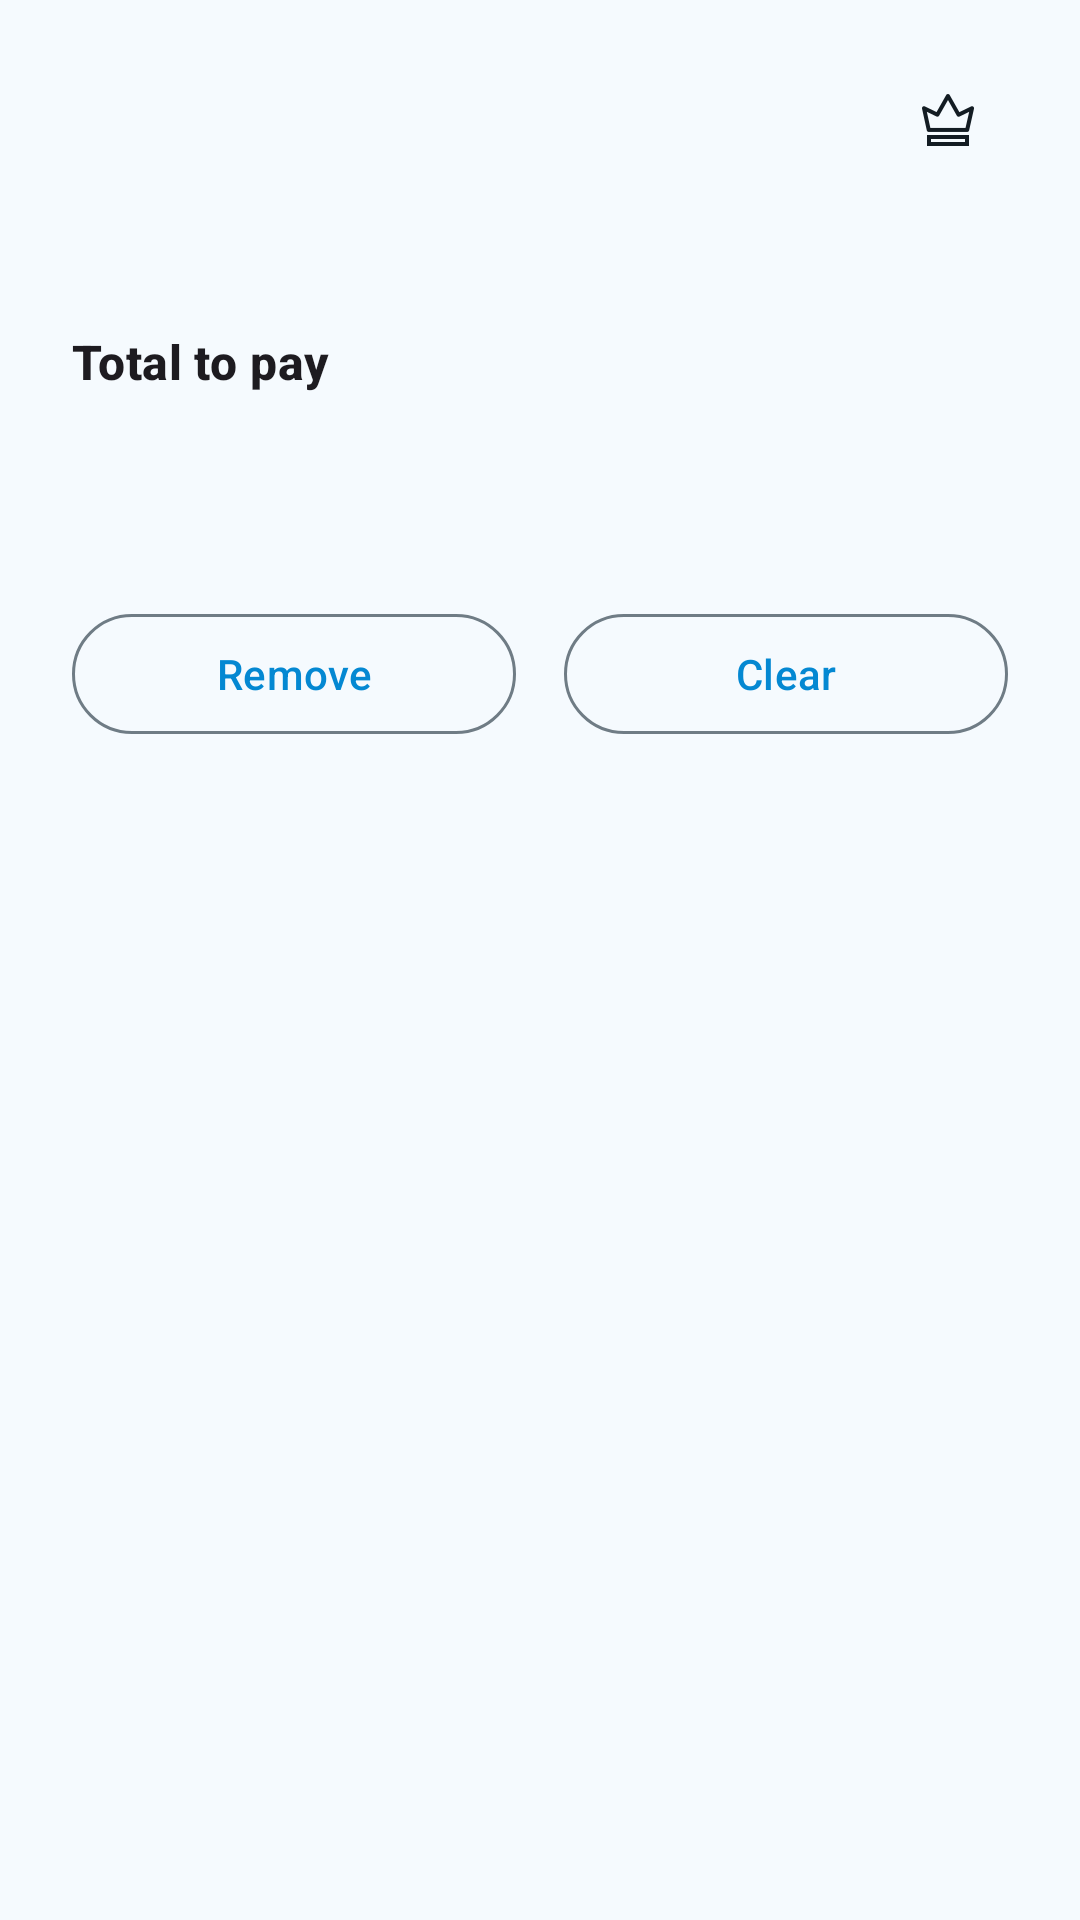

Named icons in this screenshot (1080 × 1920) and their bounding boxes, (x1, y1, x2, y2):
Select primary participant: (922, 94, 974, 146)
